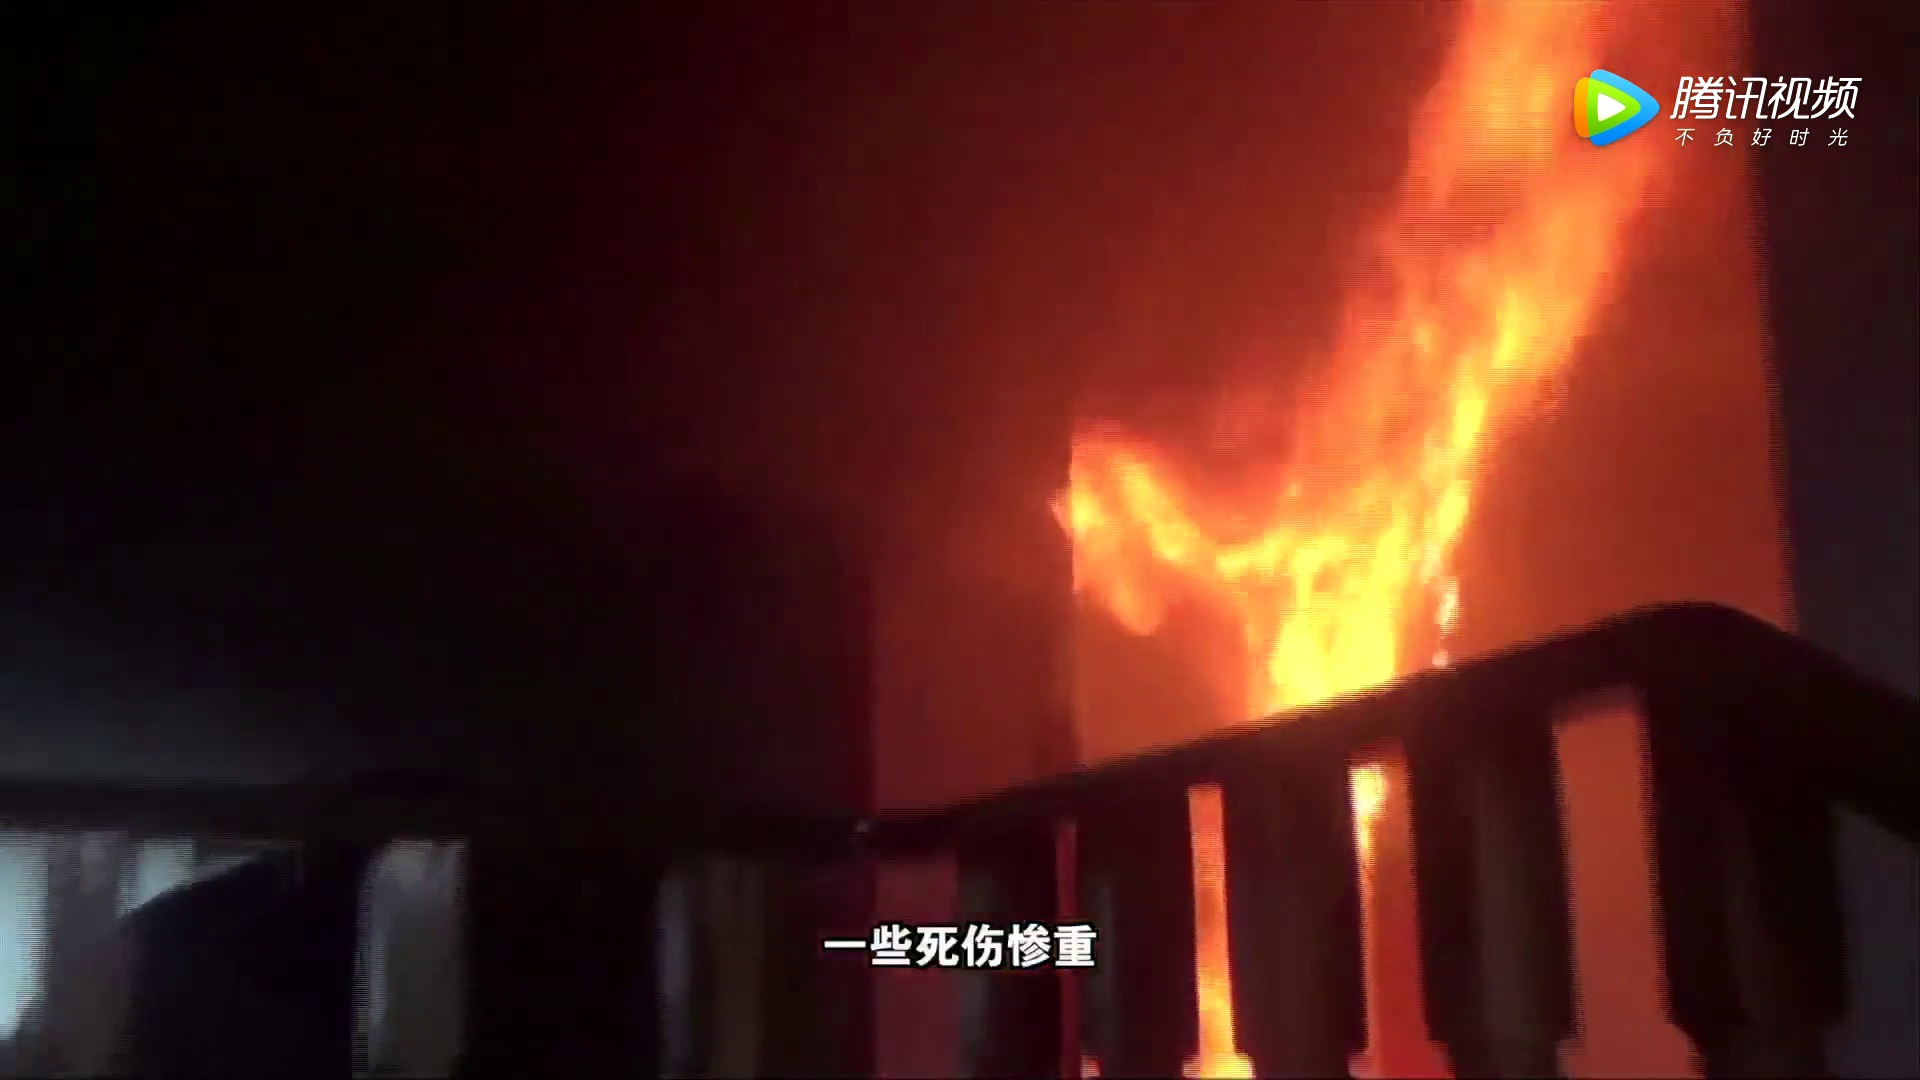fire: (1021, 1, 1753, 824)
